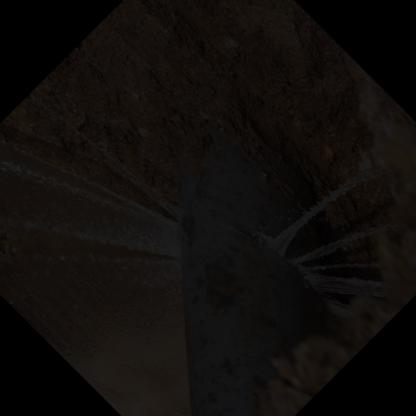burst: (250, 226, 361, 322), (156, 189, 207, 302)
